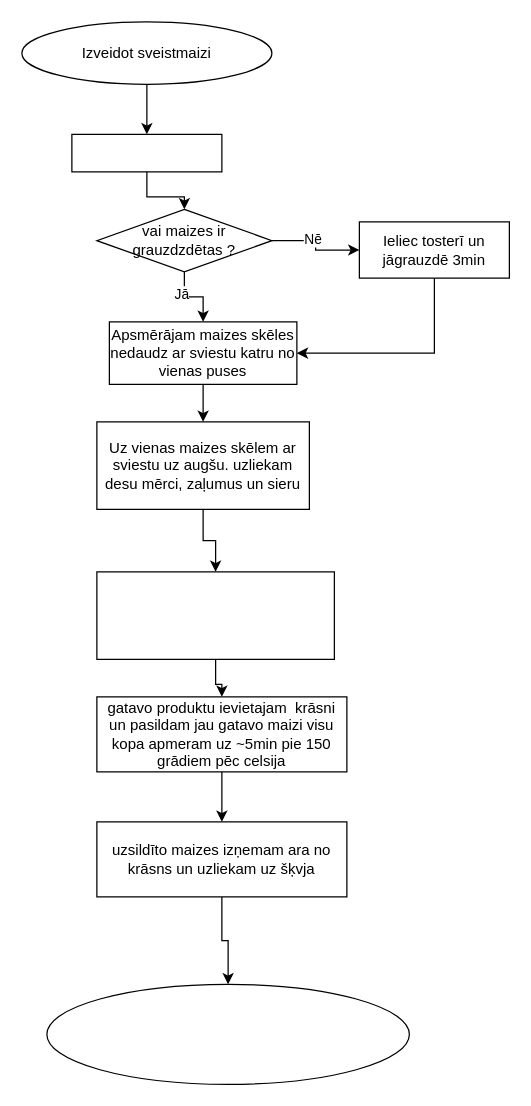
Image size: 531x1106. Some labels were removed from this diagram. The shapes that lost their labels are listed below. From the top down, each one's box as (x1, y1, x2, y2) in pixels, then its label:
(71, 133, 222, 172): paņemt divas maizes škēles
(96, 571, 334, 659): Otru maizes šķēli ar sviestu uz leju uzliekam pa virsu pirmajais maizes skēlei!
(46, 983, 409, 1084): Sviestmaze ir gatava varam pasniegt ēdājam uz galda.
